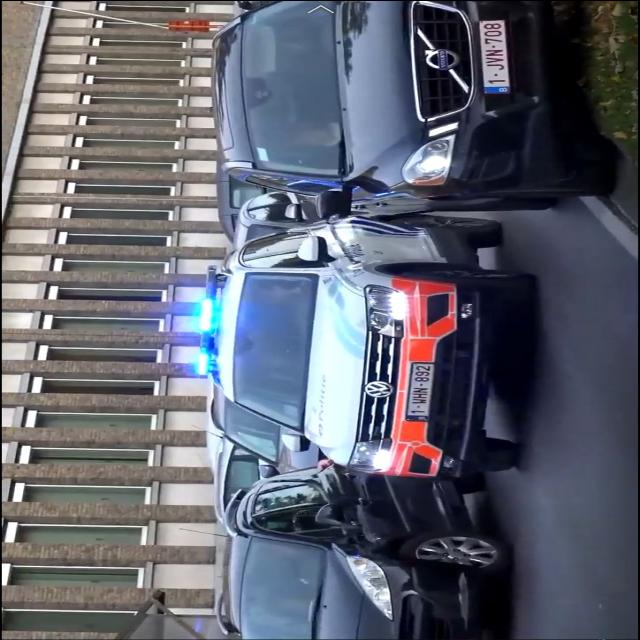emergency: (194, 213, 542, 478)
